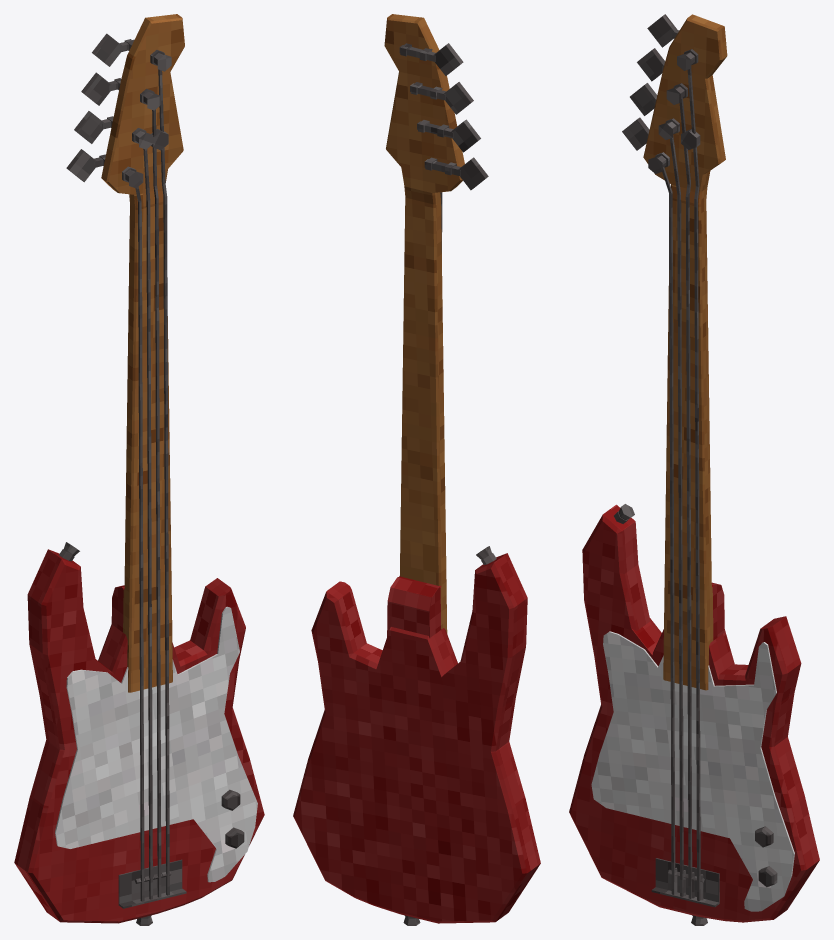
Rendered from bass_.fbx.
3 renders of one model, left to right at view 1: azimuth 30°, elevation 25°; view 2: azimuth 150°, elevation 25°; view 3: azimuth 330°, elevation 25°, orthographic.
Parts seen in each view (by area): view 1: Bass1; view 2: Bass1; view 3: Bass1.
Part boxes in pixels (left/top/right/bottom): Bass1: left=14, top=14, right=264, bottom=925; Bass1: left=293, top=14, right=540, bottom=925; Bass1: left=569, top=14, right=819, bottom=925.
Size of the model in its own units: 42.18 by 155 by 8.12.
